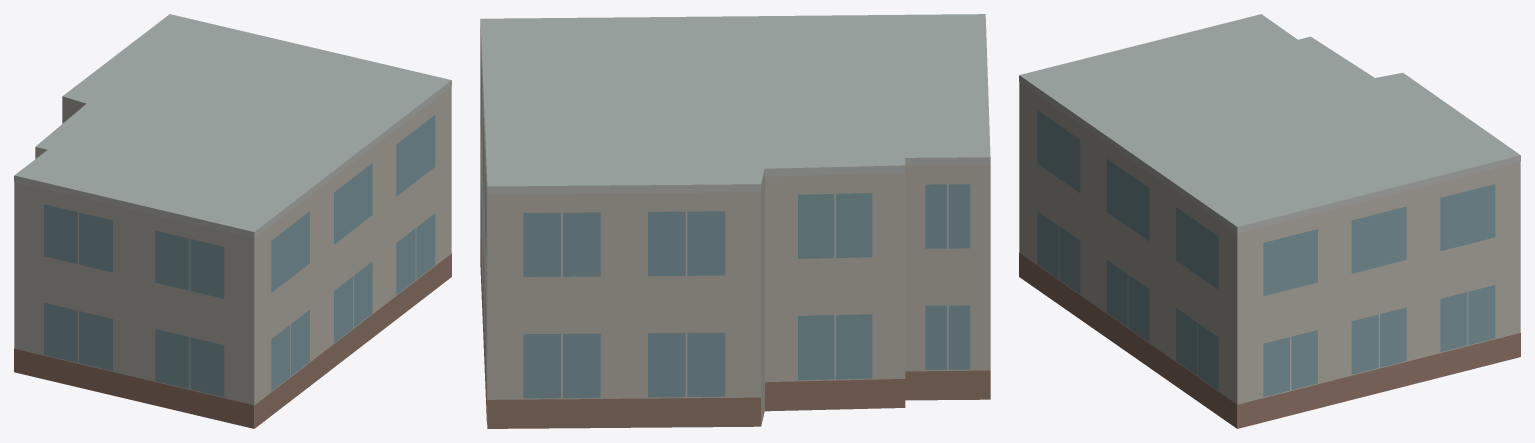
The model's file is survey-upis-32624875.glb.
The picture shows the model from 3 angles, left to right: view 1: azimuth 30°, elevation 25°; view 2: azimuth 150°, elevation 25°; view 3: azimuth 270°, elevation 25°; orthographic projection. The views are drawn at different scales.
Visible parts, largest first — view 1: survey-upis-32624875.tmp; view 2: survey-upis-32624875.tmp; view 3: survey-upis-32624875.tmp.
Boxes of the visible parts, x1,y1,x2,y2 form: survey-upis-32624875.tmp: (14, 14, 451, 428); survey-upis-32624875.tmp: (480, 14, 990, 428); survey-upis-32624875.tmp: (1019, 14, 1520, 428).
Size of the model in its own units: 17.22 by 7.6 by 17.13.
